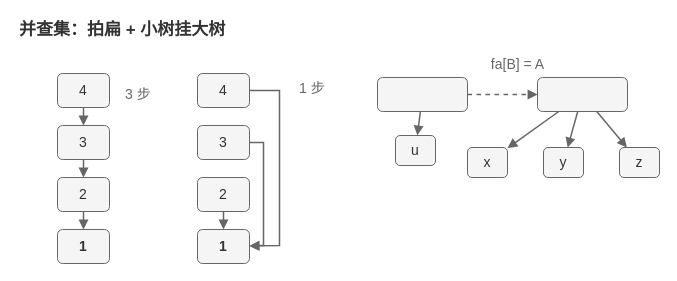
The diagram is 677 pixels wide and 281 high, and some of its shapes have lost their labels. The shapes that lost their labels are listed below. From the top down, each one's box as (x1, y1, x2, y2) in pixels, then its label:
(376, 76, 468, 112): B（2）
(536, 76, 628, 112): A（4）
